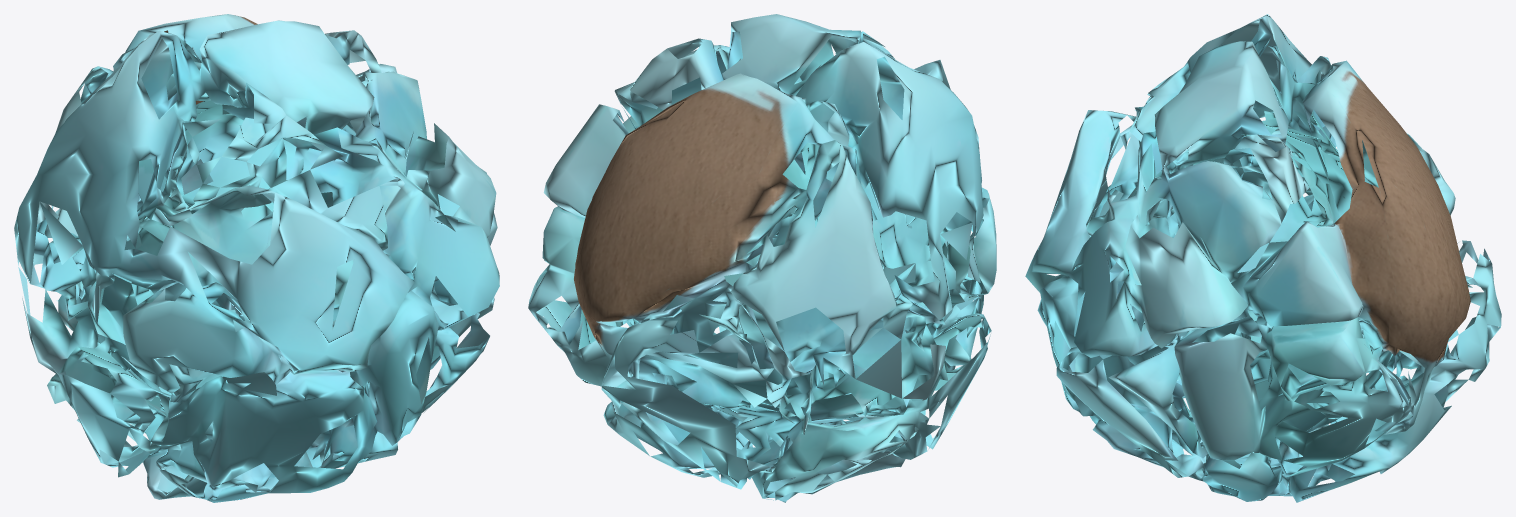
File: led-glyba-kolotaya.glb
3 views of the same model, side by side, from view 1: azimuth 30°, elevation 25°; view 2: azimuth 150°, elevation 25°; view 3: azimuth 270°, elevation 25° (orthographic). The views are drawn at different scales.
Parts seen in each view (by area): view 1: geometry_0; view 2: geometry_0; view 3: geometry_0.
Part boxes in pixels (left/top/right/bottom): geometry_0: left=14, top=14, right=499, bottom=502; geometry_0: left=528, top=14, right=996, bottom=502; geometry_0: left=1025, top=14, right=1501, bottom=502.
Size of the model in its own units: 0.8801 by 0.9797 by 0.9708.
Materials: 1 (1 with a texture image).
